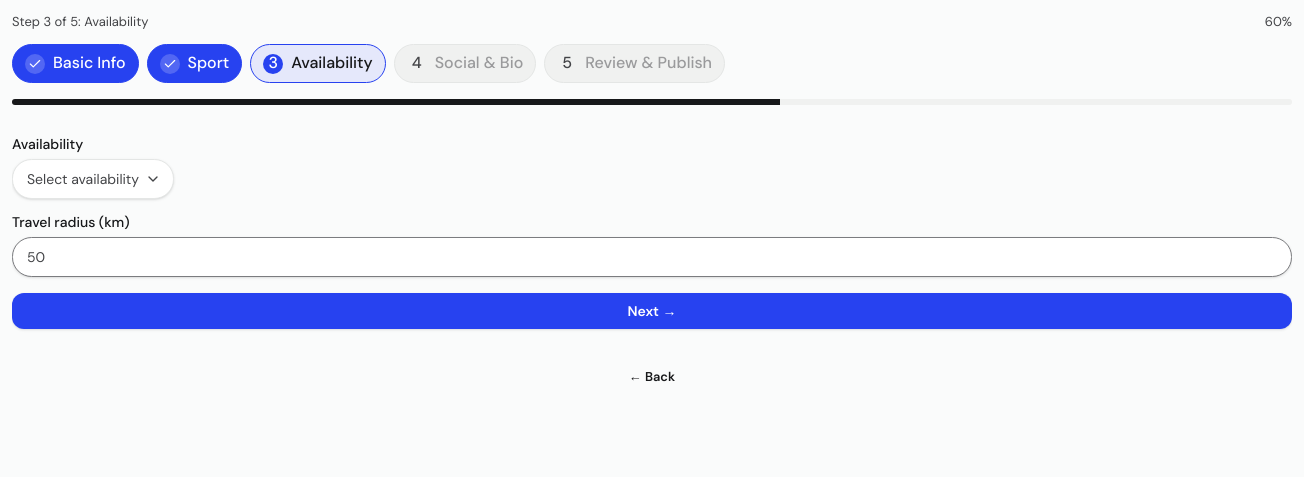
Test case: ProfileWizard › step 3: selecting "Available From a Date" reveals the inline date picker
Click the dropdown labelled "Select availability ▼". click: (93,179)
box: [12,159,174,199]
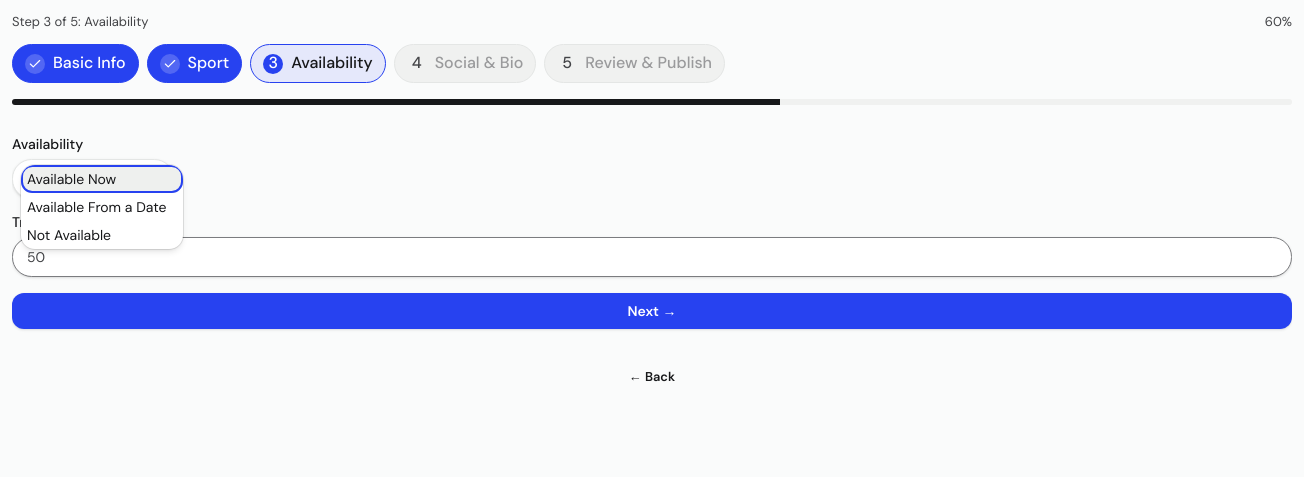
Click the option "Available From a Date". click: (102,207)
box: [21,193,183,221]
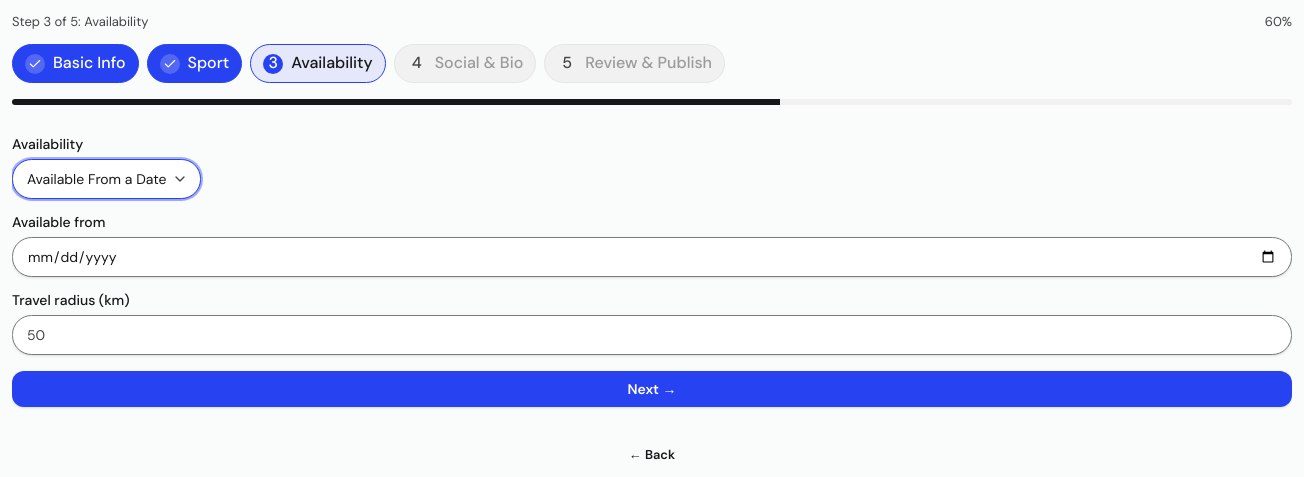
Now the date field labelled "Available from" is shown, box [12,237,1292,277]
